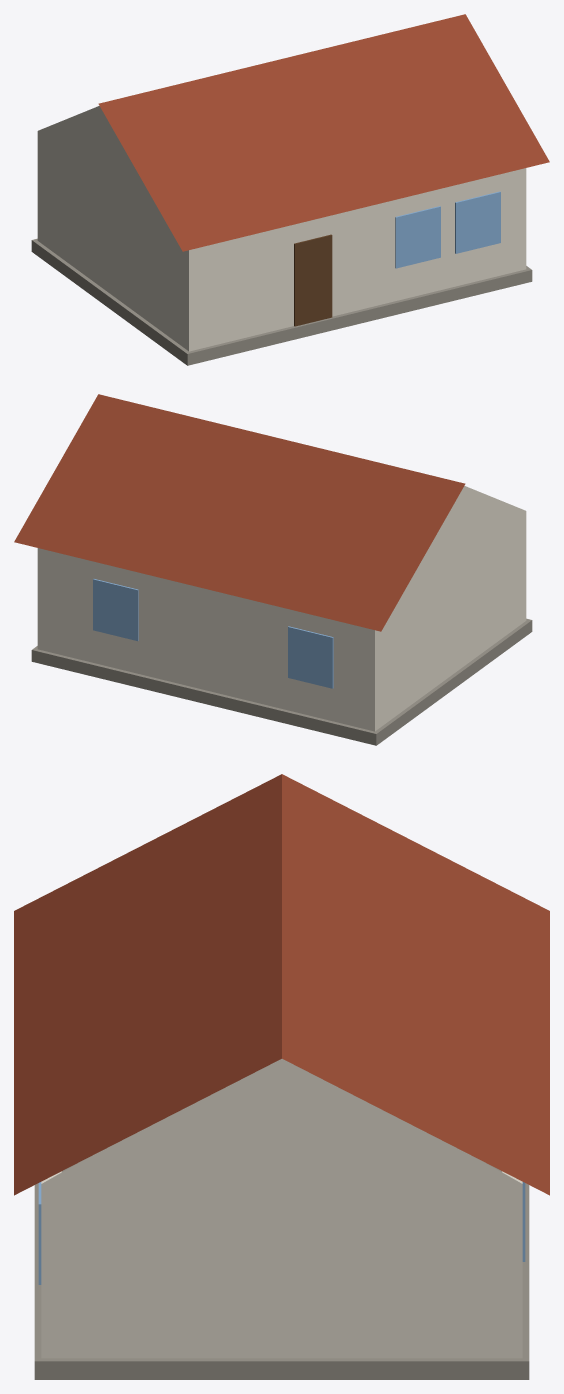
The model's file is house.glb.
The picture shows the model from 3 angles, top to bottom: view 1: azimuth 30°, elevation 25°; view 2: azimuth 150°, elevation 25°; view 3: azimuth 270°, elevation 25°; orthographic projection. The views are drawn at different scales.
Visible parts, largest first — view 1: Roof, Wall S, Wall W, Plinth, Window S (×2), Gables, Door, Wall N; view 2: Roof, Wall N, Wall W, Plinth, Window N (×2), Gables, Wall S; view 3: Roof, Wall E, Gables, Plinth, Wall N, Wall S.
Boxes of the visible parts, x1=… form: Roof: x1=98, y1=14, x2=549, y2=251; Wall S: x1=182, y1=168, x2=526, y2=351; Wall W: x1=44, y1=136, x2=182, y2=346; Plinth: x1=31, y1=238, x2=532, y2=365; Window S (×2): x1=395, y1=191, x2=500, y2=268; Gables: x1=38, y1=106, x2=167, y2=225; Door: x1=294, y1=234, x2=332, y2=326; Wall N: x1=37, y1=131, x2=43, y2=244; Roof: x1=14, y1=394, x2=465, y2=631; Wall N: x1=37, y1=548, x2=381, y2=731; Wall W: x1=381, y1=516, x2=519, y2=726; Plinth: x1=31, y1=618, x2=532, y2=745; Window N (×2): x1=93, y1=579, x2=333, y2=688; Gables: x1=396, y1=486, x2=525, y2=605; Wall S: x1=520, y1=511, x2=526, y2=624; Roof: x1=14, y1=774, x2=549, y2=1195; Wall E: x1=62, y1=1184, x2=501, y2=1358; Gables: x1=42, y1=1059, x2=521, y2=1183; Plinth: x1=34, y1=1161, x2=529, y2=1379; Wall N: x1=502, y1=1171, x2=522, y2=1358; Wall S: x1=41, y1=1171, x2=61, y2=1358.
Size of the model in its own units: 9.8 by 5.3 by 7.8.
